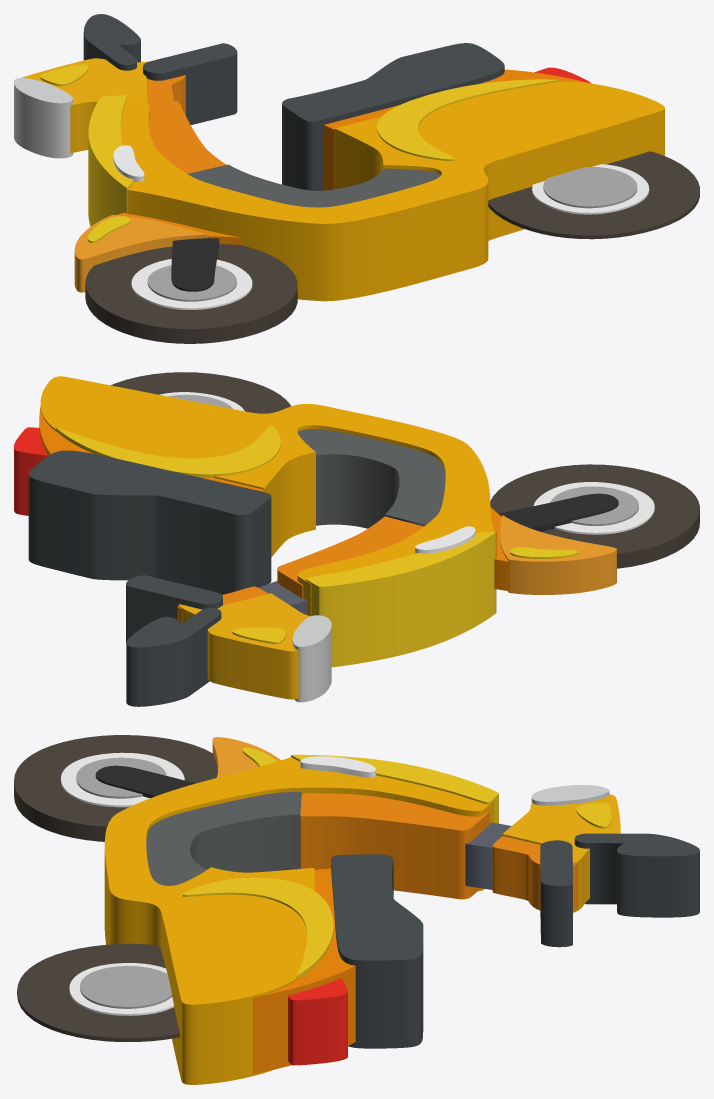
File: emoji_u1f6f5.glb
The picture shows the model from 3 angles, top to bottom: view 1: azimuth 30°, elevation 25°; view 2: azimuth 150°, elevation 25°; view 3: azimuth 270°, elevation 25°; orthographic projection. The views are drawn at different scales.
Visible parts, largest first — view 1: emoji_u1f6f5; view 2: emoji_u1f6f5; view 3: emoji_u1f6f5.
Part boxes in pixels (box(x1,y1,x2,y2)): emoji_u1f6f5: box(14, 14, 699, 343); emoji_u1f6f5: box(14, 372, 699, 706); emoji_u1f6f5: box(14, 735, 699, 1084).
Size of the model in its own units: 0.0339 by 0.0048 by 0.0325.
